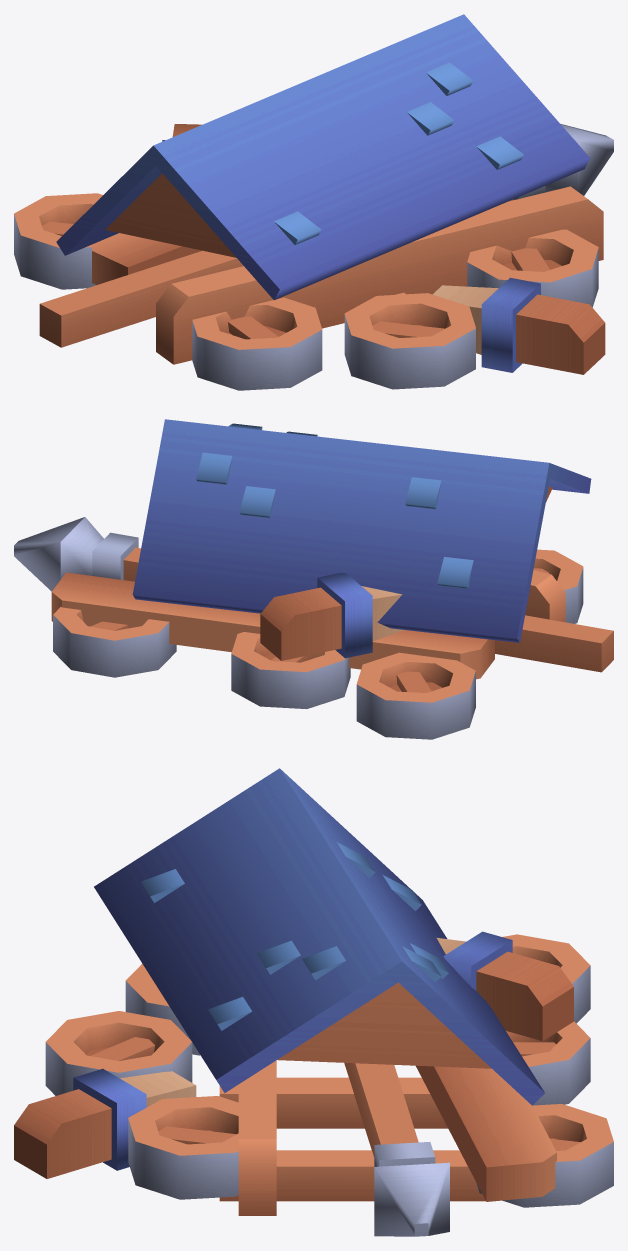
Rendered from siege-ram-demolished.glb.
3 views of the same model, one above another, from view 1: azimuth 30°, elevation 25°; view 2: azimuth 150°, elevation 25°; view 3: azimuth 270°, elevation 25° (orthographic). The views are drawn at different scales.
Visible parts, largest first — view 1: siege-ram-demolished; view 2: siege-ram-demolished; view 3: siege-ram-demolished.
Part boxes in pixels (x1=…): siege-ram-demolished: x1=14, y1=14, x2=613, y2=390; siege-ram-demolished: x1=14, y1=419, x2=613, y2=739; siege-ram-demolished: x1=14, y1=768, x2=613, y2=1236.
Bounding box in the file's own units: 2.08 × 0.7231 × 1.65.
Materials: 1 (1 with a texture image).
